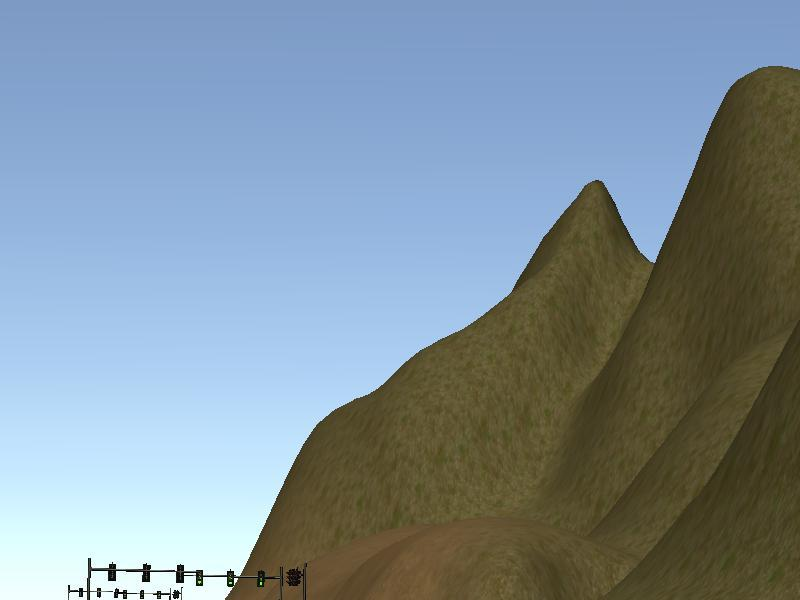Green: (195, 569, 204, 586), (226, 571, 235, 588), (256, 570, 265, 587)
